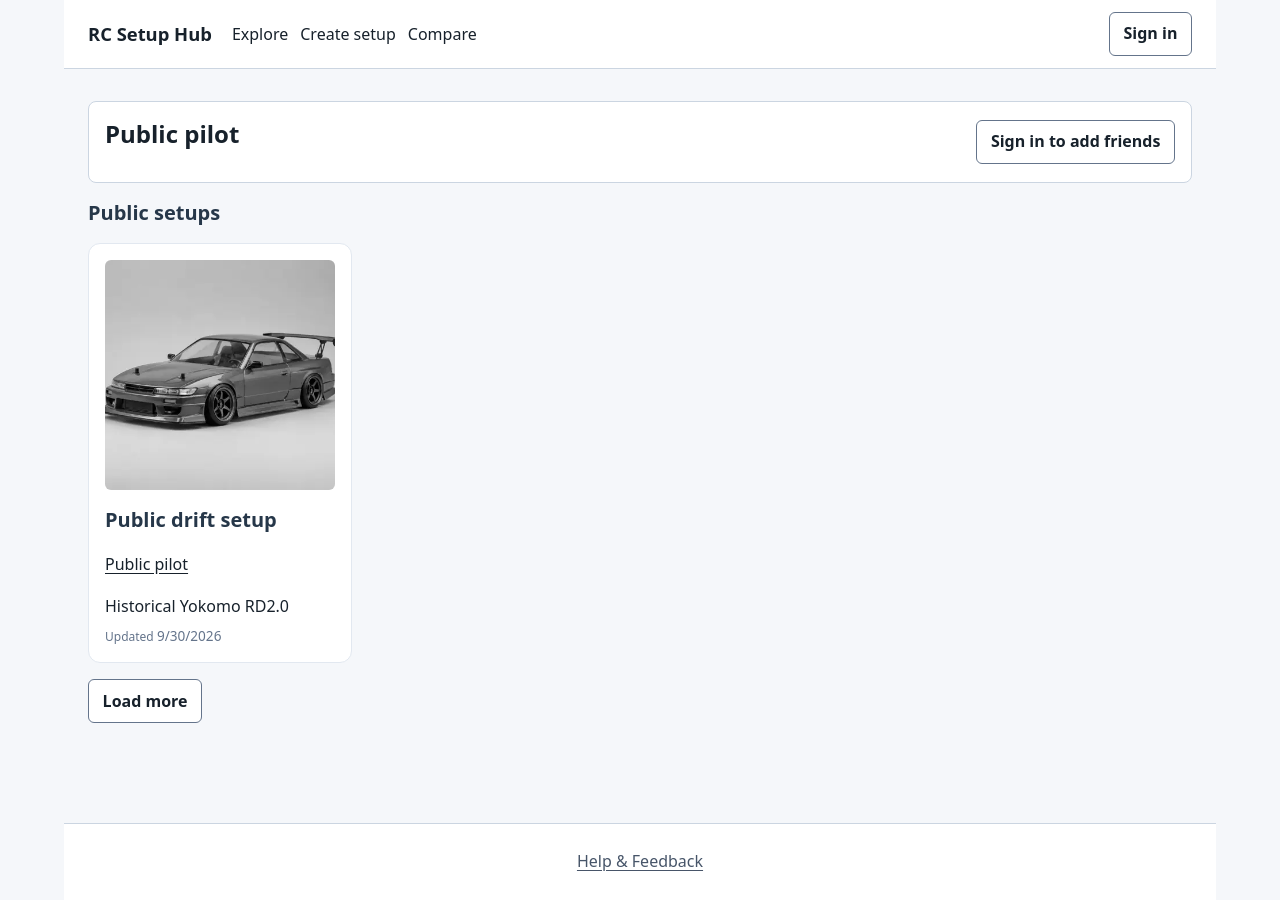
Test: safe public profile defaults to paginated public-only endpoint, signed-in=false
Check: the heading "Public pilot" is shown, box [105,118,239,150]
Check: the link "Public drift setup" is shown, box [105,506,277,533]
Click the button "Load more": (145, 701) [88,679,202,723]
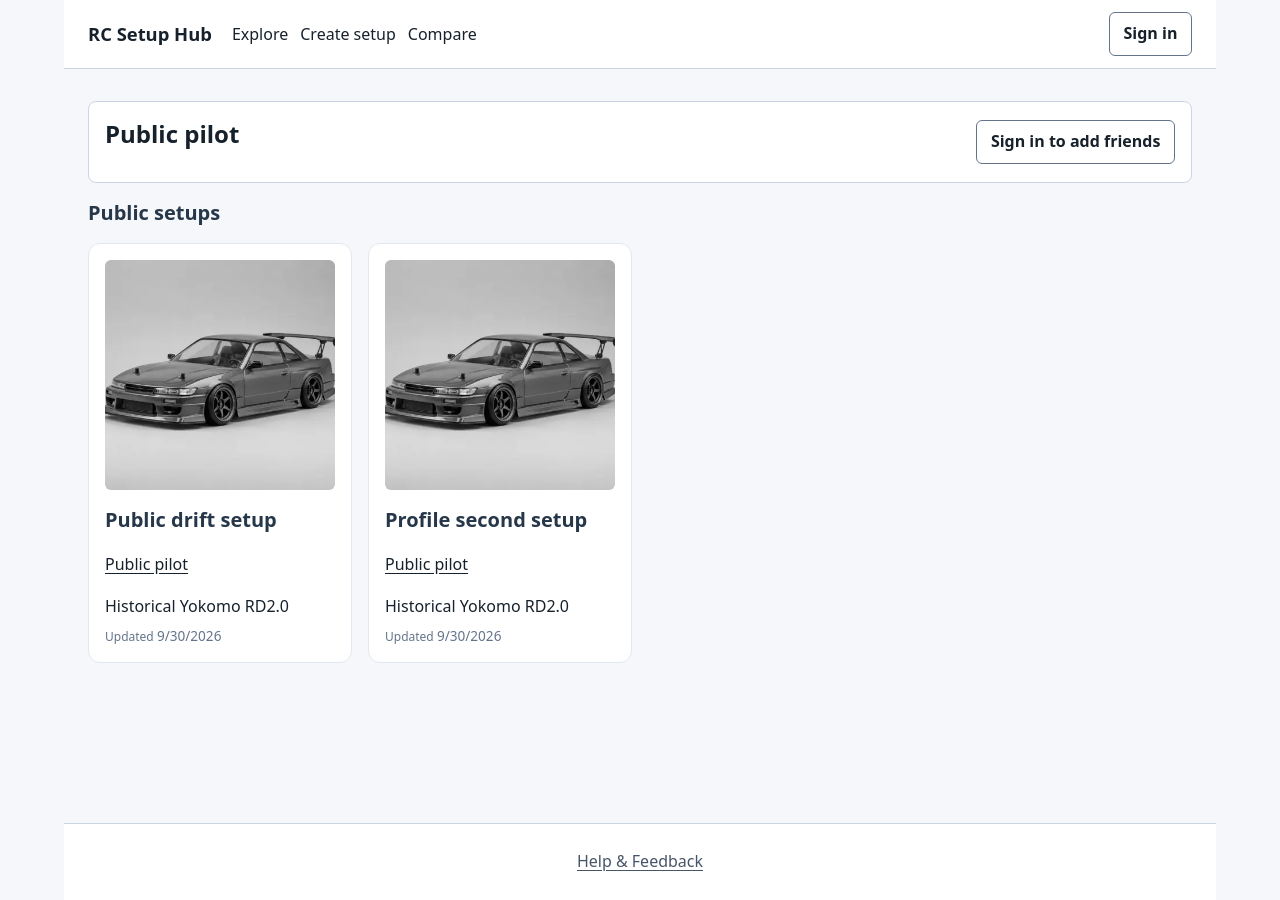
Check: the button "Sign in to add friends" is shown, box [976,120,1175,164]
Check: the link "Profile second setup" is shown, box [385,506,587,533]
